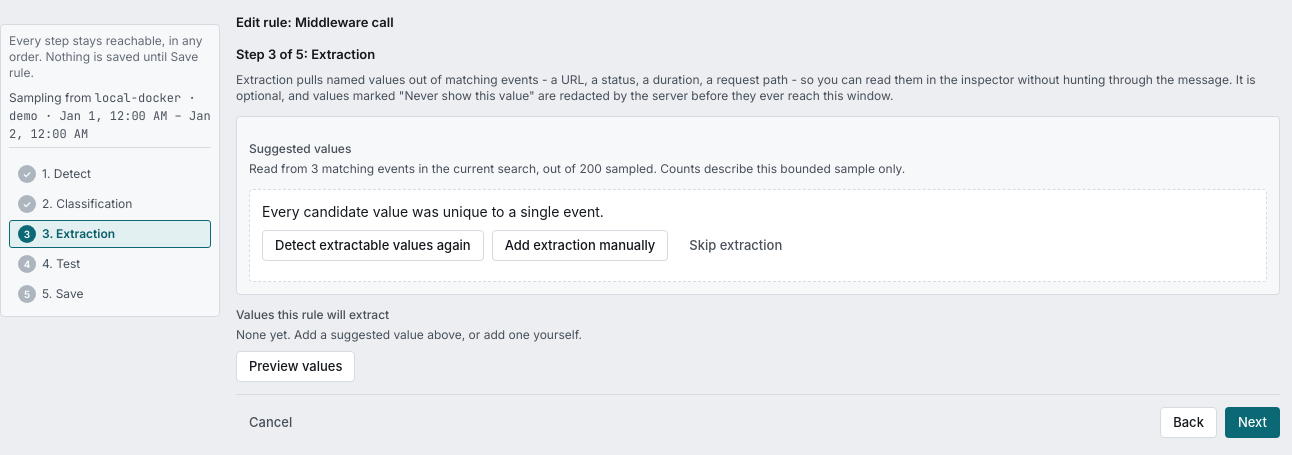
Scenario: RuleEditor - assisted extraction: nothing could be suggested › "Skip extraction" leaves the rule with no extractions and says so plainly
Click the button "Skip extraction".
click(736, 246)  # box [676,230,795,261]
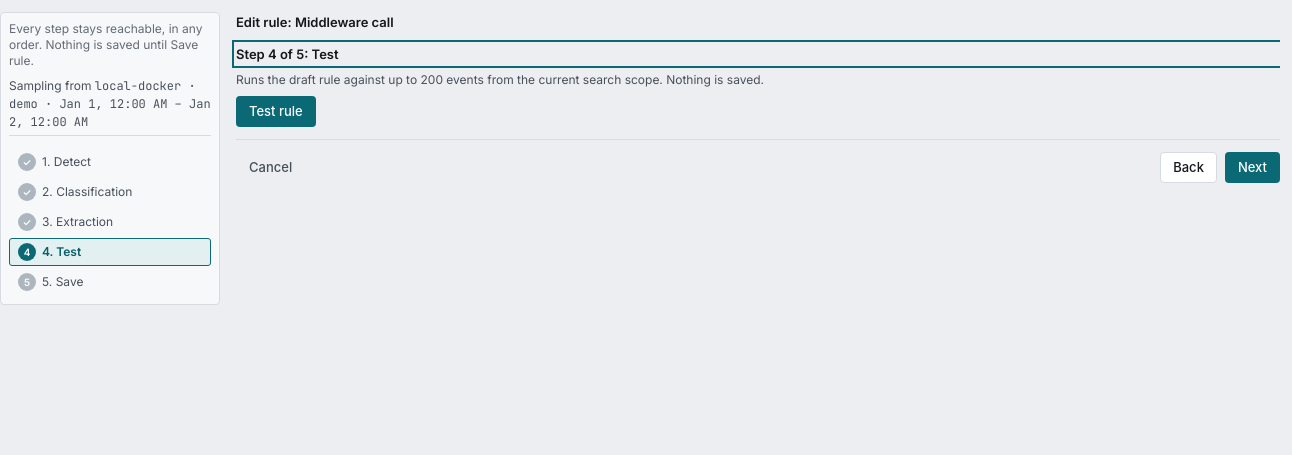
Now the heading "Step 4 of 5: Test" is shown, box [236,46,339,62]
Click the button "✓ 3. Extraction".
click(110, 222)  # box [9,208,211,236]
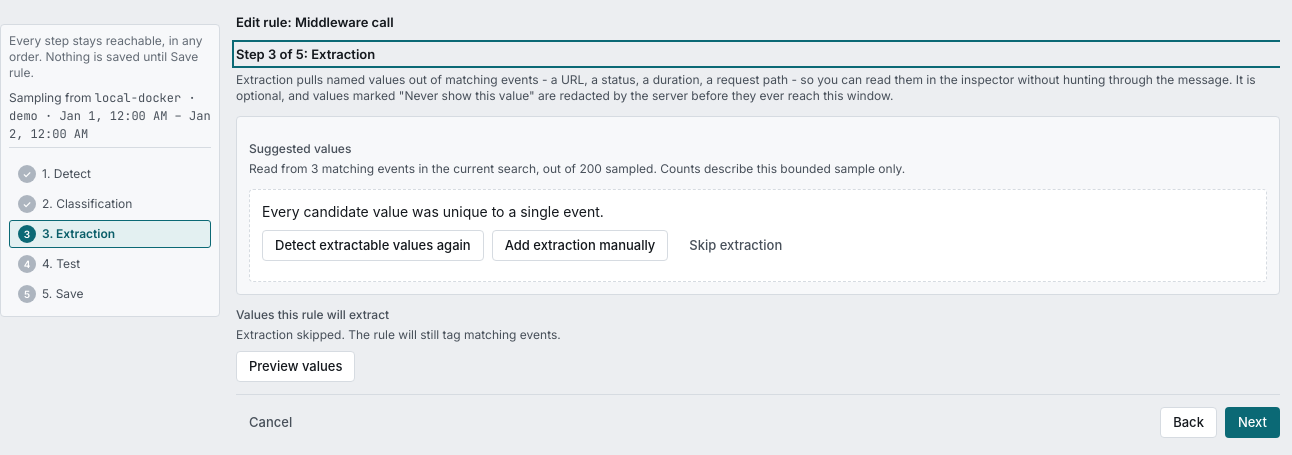
Now the text "Extraction skipped. The rule will still tag matching events." is shown, box [236,327,561,342]
